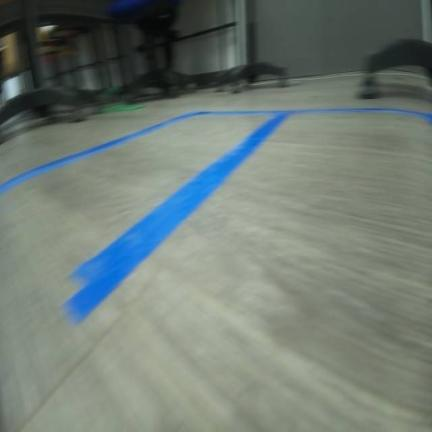place: (54, 106, 431, 431), (0, 107, 294, 325)
